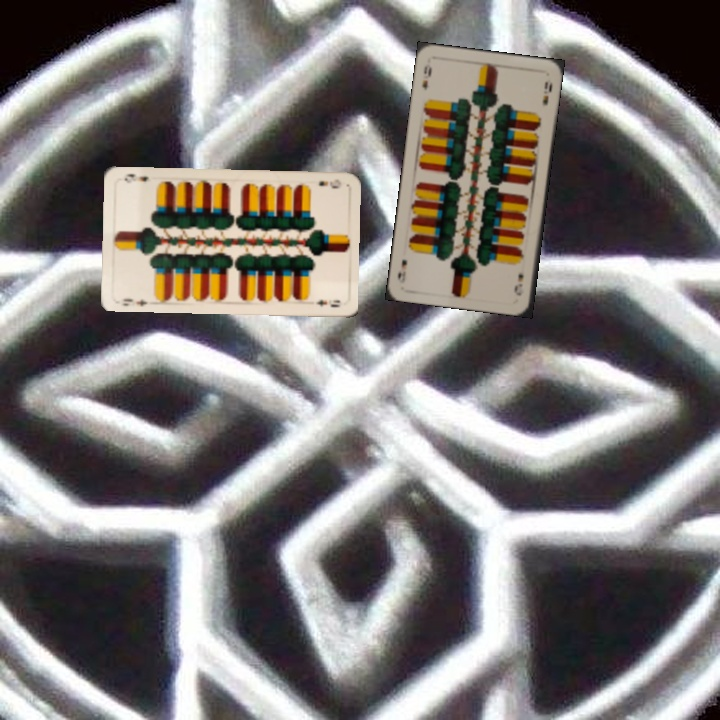E9: (418, 62, 434, 92), (117, 295, 150, 309), (315, 175, 343, 191), (511, 270, 526, 298)
